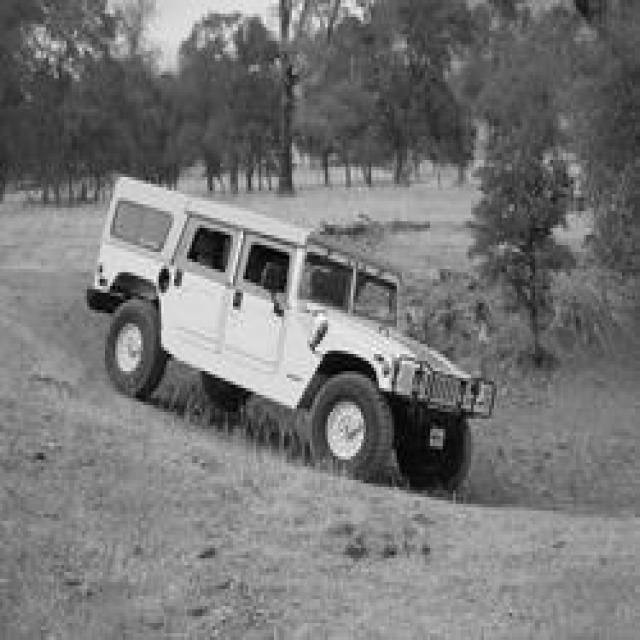car: (85, 174, 494, 490)
